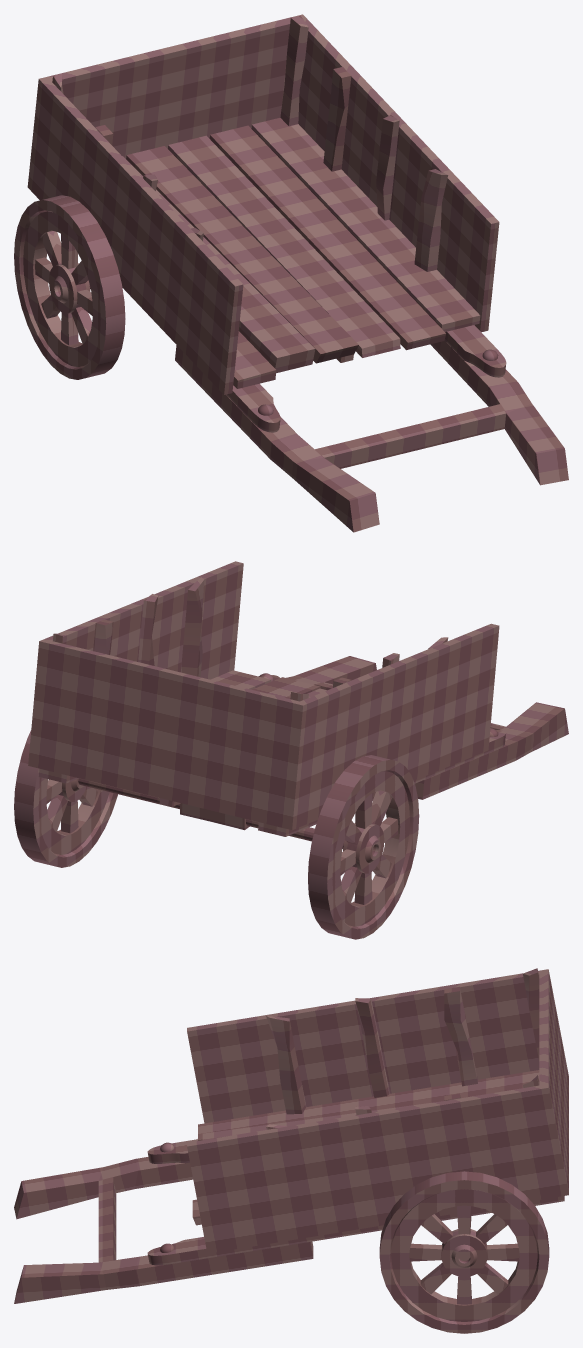
The model's file is 311_wagon_MD.fbx.
3 renders of one model, top to bottom at view 1: azimuth 30°, elevation 25°; view 2: azimuth 150°, elevation 25°; view 3: azimuth 270°, elevation 25°, orthographic. The views are drawn at different scales.
Visible parts, largest first — view 1: wagon000; view 2: wagon000; view 3: wagon000.
Part boxes in pixels (box(x1,y1,x2,y2)): wagon000: box(14, 14, 568, 532); wagon000: box(14, 561, 568, 939); wagon000: box(14, 968, 568, 1333).
Size of the model in its own units: 126 by 98.95 by 208.
Materials: 1 (1 with a texture image).
